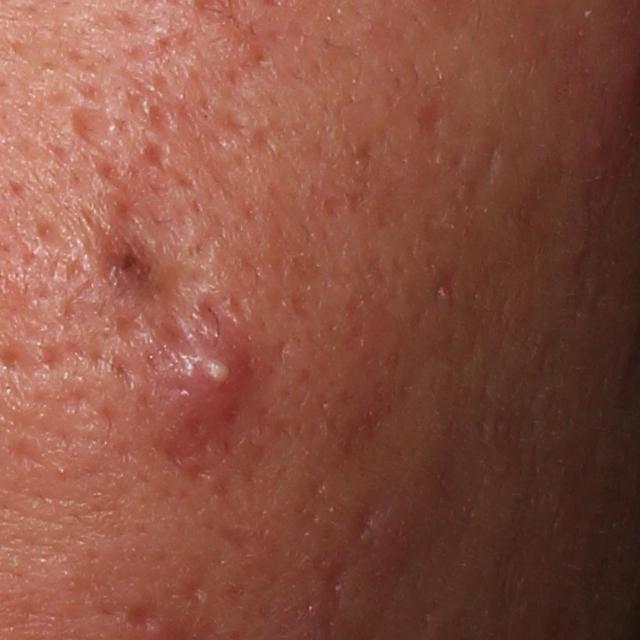atrophic_scar: (78, 162, 196, 314), (68, 105, 122, 166), (2, 432, 55, 475), (206, 521, 263, 559), (428, 257, 465, 310), (32, 217, 76, 259), (122, 599, 163, 634), (112, 313, 147, 348), (418, 100, 448, 138), (476, 141, 506, 179), (179, 575, 209, 605)
pustule: (143, 331, 247, 445)
